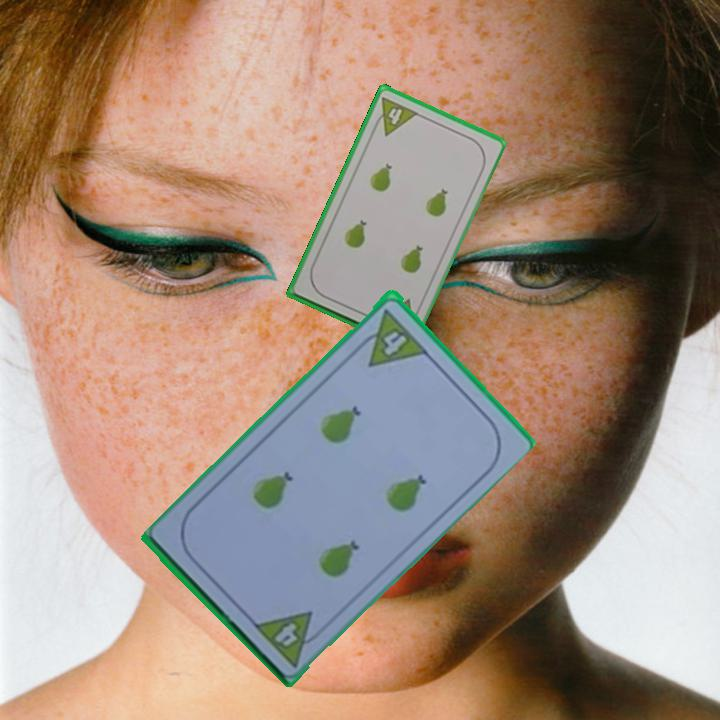4p: (351, 304, 430, 370), (250, 606, 330, 670), (369, 93, 421, 138)
